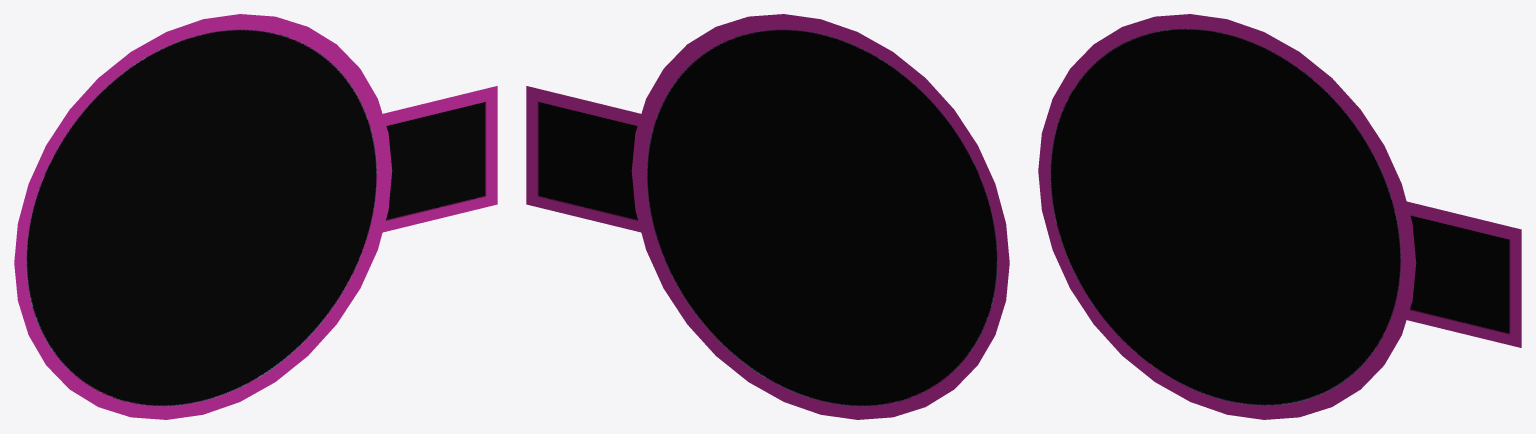
File: enemy.obj
The picture shows the model from 3 angles, left to right: view 1: azimuth 30°, elevation 25°; view 2: azimuth 150°, elevation 25°; view 3: azimuth 330°, elevation 25°; orthographic projection.
Visible parts, largest first — view 1: 円; view 2: 円; view 3: 円.
Boxes of the visible parts, x1,y1,x2,y2 form: 円: (14,14,497,419); 円: (526,14,1009,419); 円: (1038,14,1521,419).
Bounding box in the file's own units: 2.56 × 2 × 0.
1 material, 1 textured.
